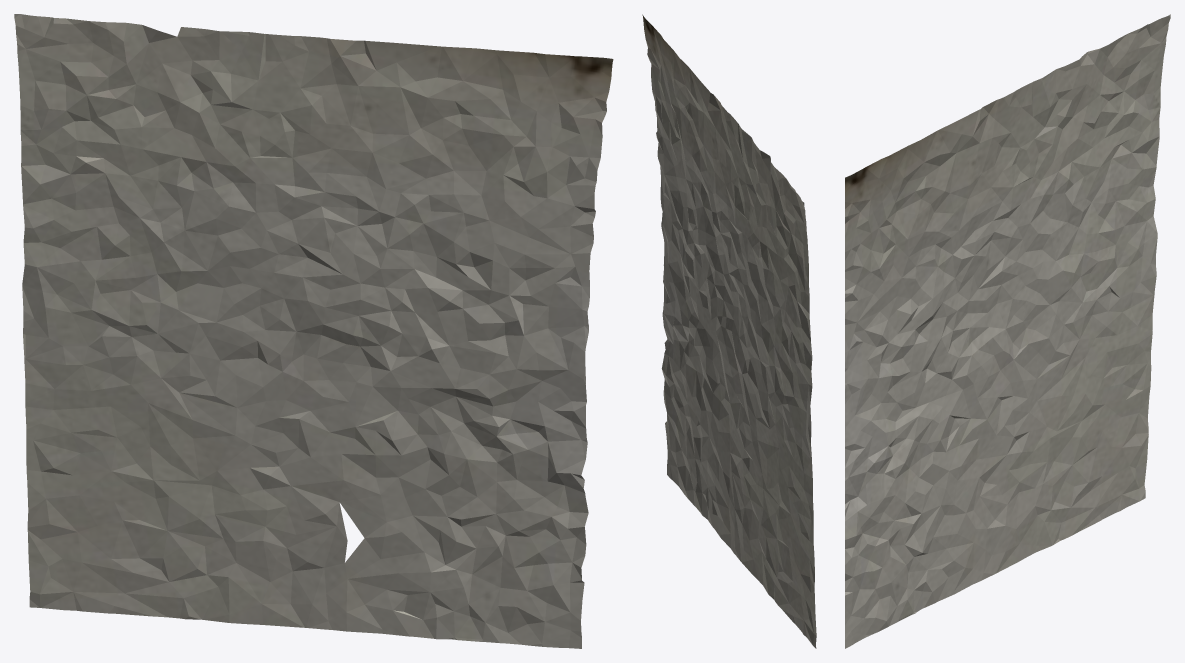
3 renders of one model, left to right at view 1: azimuth 30°, elevation 25°; view 2: azimuth 150°, elevation 25°; view 3: azimuth 270°, elevation 25°, orthographic. The views are drawn at different scales.
Size of the model in its own units: 0.6068 by 0.8374 by 0.5104.
Materials: 2 (2 with a texture image).
